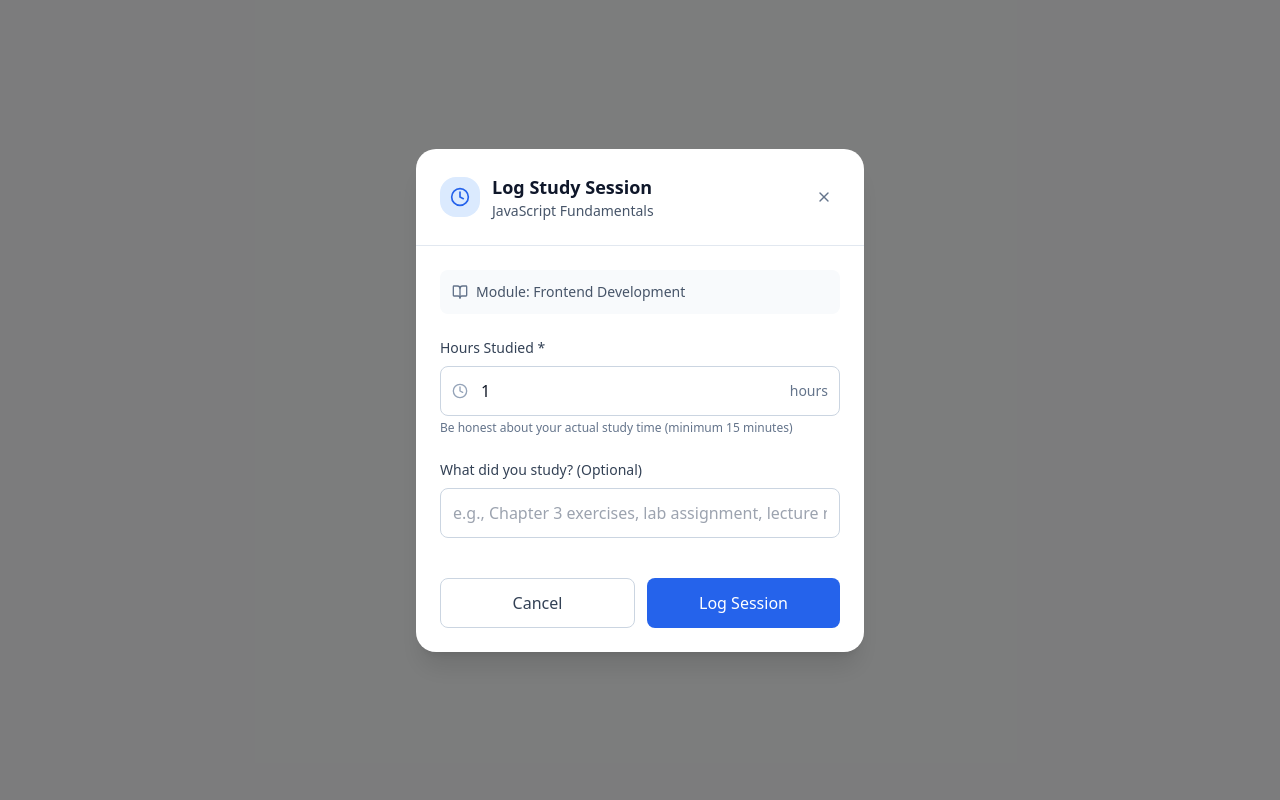
Test: StudyLogDialog Component › shows loading state while submitting
Click the button "Log Session". click: (744, 602)
box: [647,578,840,628]
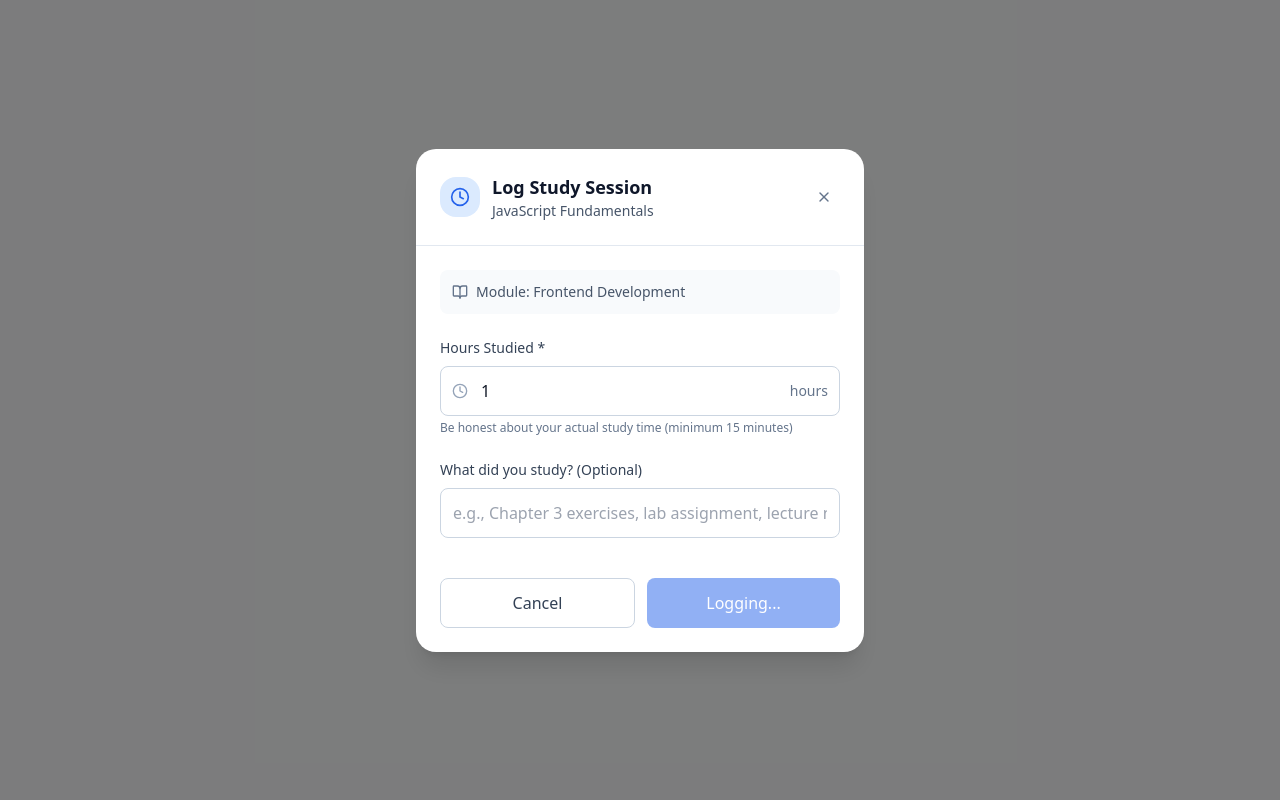
Expected: the button "Logging..." is disabled, [647,578,840,628]
